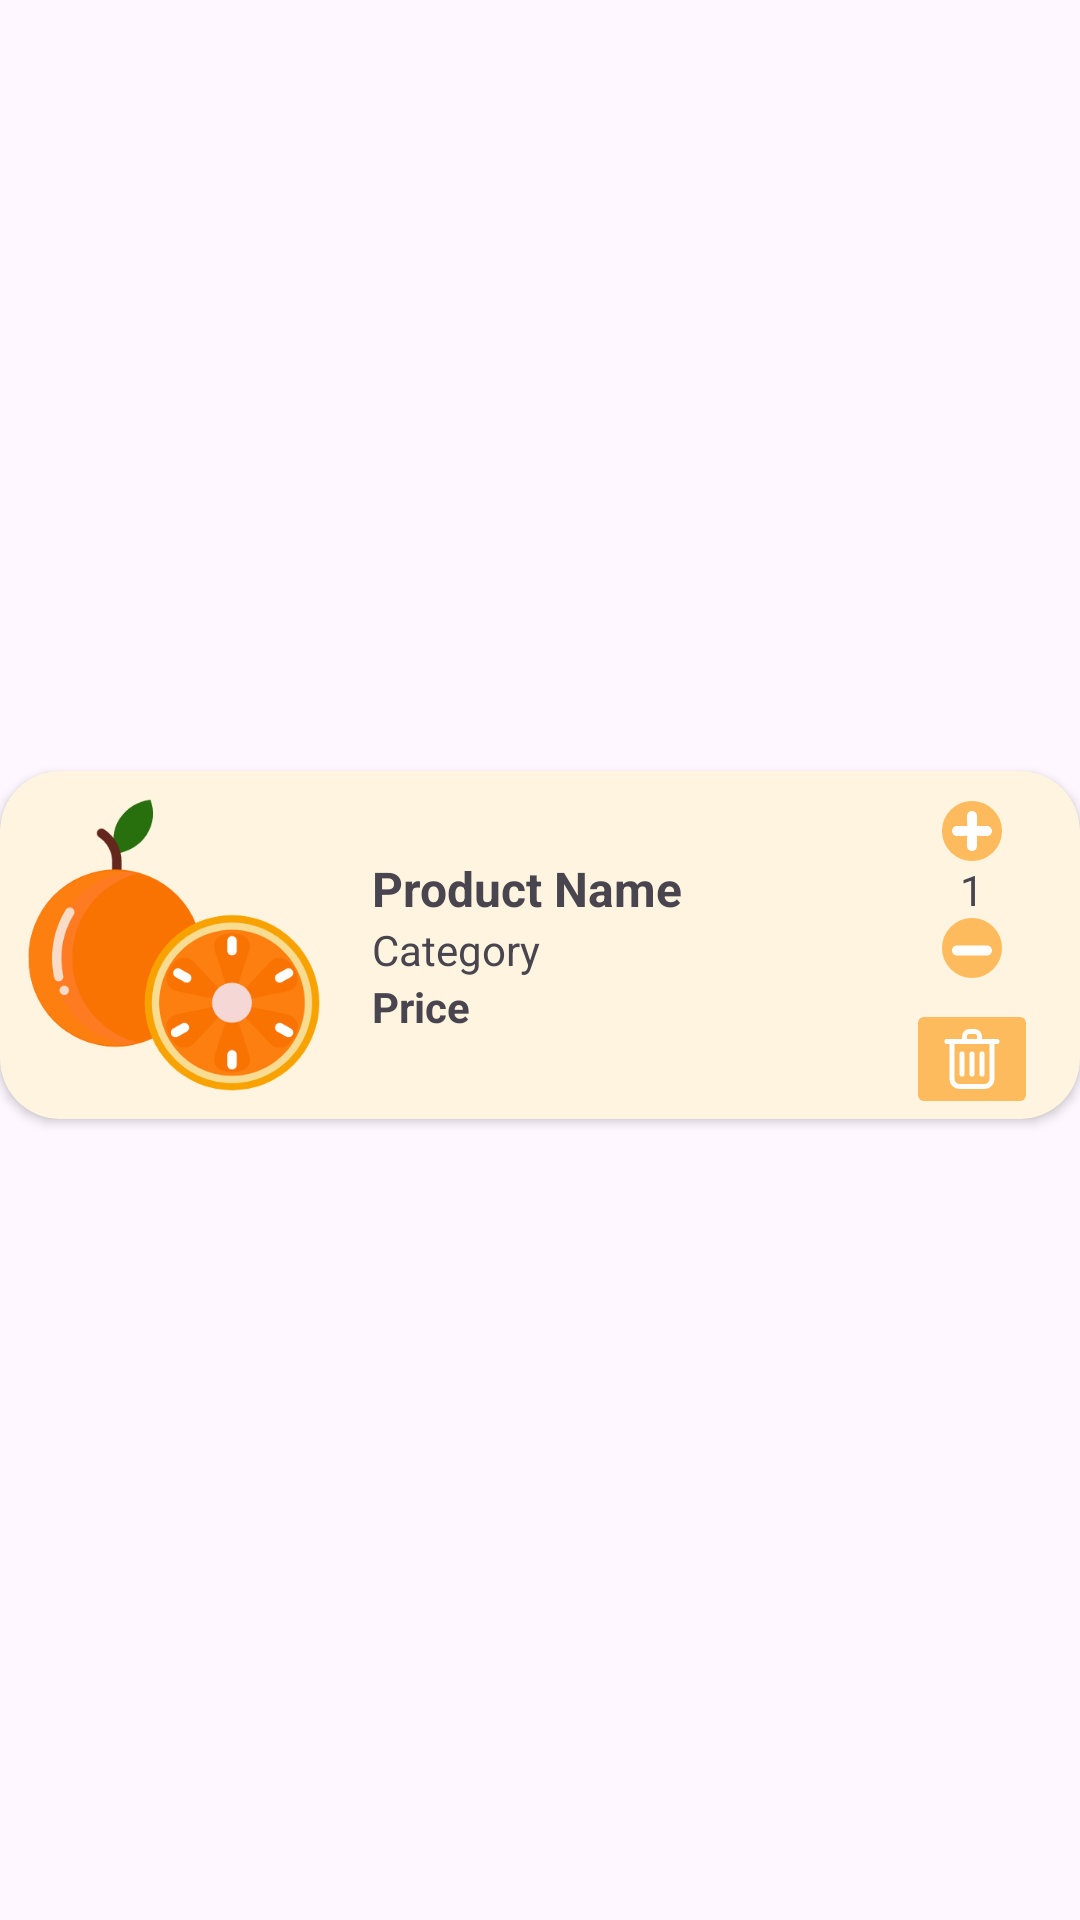

Icons on this 1080 x 1920 Android screen, each with its box as [x1,y1,x2,y2]:
minus: [942,918,1002,978]
plus: [942,801,1002,861]
